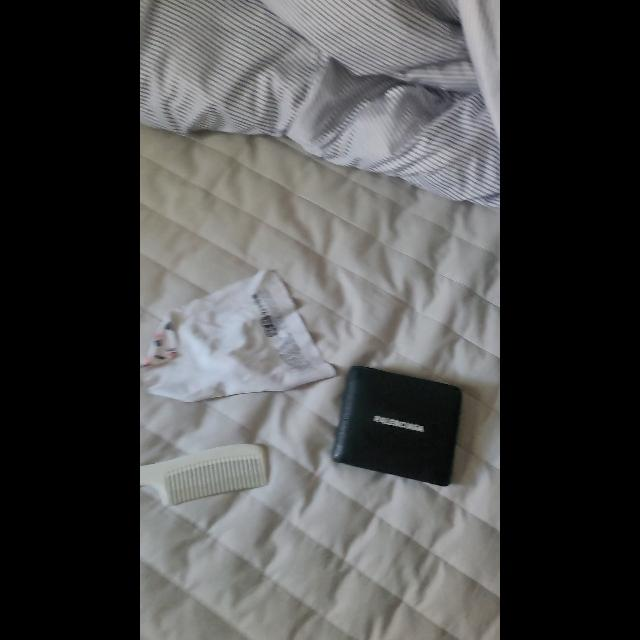COMB: (140, 444, 268, 508)
Glasses cleaning cloth: (140, 270, 336, 402)
WALLET: (332, 366, 462, 486)
